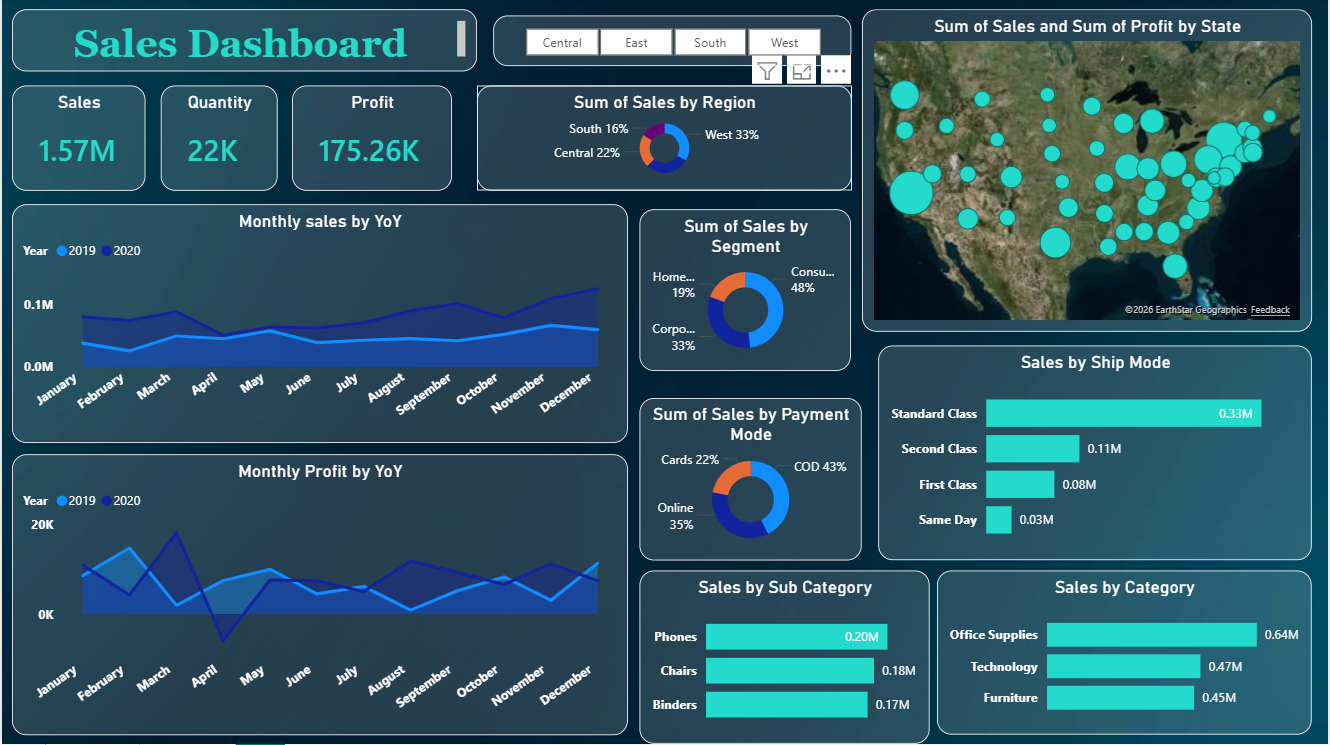

What the dashboard file says about the page in this screenshot:
{"tool":"powerbi","page":{"name":"Page 1","canvas":[1280,720],"ordinal":0},"visuals":[{"type":"clusteredBarChart","title":"Sales by Category","fields":{"Category":["SuperStore_Sales_Dataset.Category"],"Y":["Sum(SuperStore_Sales_Dataset.Sales)"]},"box":[902.9,552.9,361.4,158.6],"z":0},{"type":"clusteredBarChart","title":"Sales by Sub  Category","fields":{"Category":["SuperStore_Sales_Dataset.Sub-Category"],"Y":["Sum(SuperStore_Sales_Dataset.Sales)"]},"box":[615.7,552.9,280,167.1],"z":1000},{"type":"clusteredBarChart","title":"Sales by Ship Mode","fields":{"Category":["SuperStore_Sales_Dataset.Ship Mode"],"Y":["Sum(SuperStore_Sales_Dataset.Sales)"]},"box":[845.7,335.7,418.6,207.1],"z":2000},{"type":"areaChart","title":"Monthly sales by YoY","fields":{"Y":["Sum(SuperStore_Sales_Dataset.Sales)"],"Category":["SuperStore_Sales_Dataset.Order Date.Variation.Date Hierarchy.Month","SuperStore_Sales_Dataset.Order Date.Variation.Date Hierarchy.Day"],"Series":["SuperStore_Sales_Dataset.Order Date.Variation.Date Hierarchy.Year"]},"box":[9.6,199,594.2,230.5],"z":3000},{"type":"areaChart","title":"Monthly Profit by YoY","fields":{"Category":["SuperStore_Sales_Dataset.Order Date.Variation.Date Hierarchy.Month","SuperStore_Sales_Dataset.Order Date.Variation.Date Hierarchy.Day"],"Series":["SuperStore_Sales_Dataset.Order Date.Variation.Date Hierarchy.Year"],"Y":["Sum(SuperStore_Sales_Dataset.Profit)"]},"box":[10,440,594.3,271.4],"z":4000},{"type":"azureMap","fields":{"Category":["SuperStore_Sales_Dataset.State"],"Size":["Sum(SuperStore_Sales_Dataset.Sales)"]},"box":[830,11.4,434.3,311.4],"z":5000},{"type":"donutChart","fields":{"Category":["SuperStore_Sales_Dataset.Segment"],"Y":["Sum(SuperStore_Sales_Dataset.Sales)"]},"box":[615.7,204.3,204.3,155.7],"z":6000},{"type":"donutChart","fields":{"Y":["Sum(SuperStore_Sales_Dataset.Sales)"],"Category":["SuperStore_Sales_Dataset.Region"]},"box":[458.6,84.3,361.4,101.4],"z":7000},{"type":"donutChart","fields":{"Y":["Sum(SuperStore_Sales_Dataset.Sales)"],"Category":["SuperStore_Sales_Dataset.Payment Mode"]},"box":[615.7,385.7,214.3,157.1],"z":8000},{"type":"slicer","fields":{"Values":["SuperStore_Sales_Dataset.Region"]},"box":[474.3,17.1,345.7,48.6],"z":9000},{"type":"textbox","box":[10,11.4,448.6,60],"z":10000},{"type":"cardVisual","title":"Sales","fields":{"Data":["Sum(SuperStore_Sales_Dataset.Sales)"]},"box":[10,84.3,128.6,101.4],"z":11000},{"type":"cardVisual","title":"Quantity","fields":{"Data":["Sum(SuperStore_Sales_Dataset.Quantity)"]},"box":[152.9,84.3,112.9,101.4],"z":12000},{"type":"cardVisual","title":"Profit","fields":{"Data":["Sum(SuperStore_Sales_Dataset.Profit)"]},"box":[280,84.3,154.3,101.4],"z":13000}]}

Visuals, with their boxes in screenshot pixels (x1, y1, x2, y2), scaled from the page's 1280x720 canvas onto the 1330x745 screenshot:
"Sales by Category" clusteredBarChart: bbox=[938, 572, 1314, 736]
"Sales by Sub  Category" clusteredBarChart: bbox=[640, 572, 931, 744]
"Sales by Ship Mode" clusteredBarChart: bbox=[879, 347, 1314, 562]
"Monthly sales by YoY" areaChart: bbox=[10, 206, 627, 444]
"Monthly Profit by YoY" areaChart: bbox=[10, 455, 628, 736]
azureMap - SuperStore_Sales_Dataset.State x Sum(SuperStore_Sales_Dataset.Sales): bbox=[862, 12, 1314, 334]
donutChart - SuperStore_Sales_Dataset.Segment x Sum(SuperStore_Sales_Dataset.Sales): bbox=[640, 211, 852, 373]
donutChart - Sum(SuperStore_Sales_Dataset.Sales) x SuperStore_Sales_Dataset.Region: bbox=[477, 87, 852, 192]
donutChart - Sum(SuperStore_Sales_Dataset.Sales) x SuperStore_Sales_Dataset.Payment Mode: bbox=[640, 399, 862, 562]
slicer - SuperStore_Sales_Dataset.Region: bbox=[493, 18, 852, 68]
textbox: bbox=[10, 12, 477, 74]
"Sales" cardVisual: bbox=[10, 87, 144, 192]
"Quantity" cardVisual: bbox=[159, 87, 276, 192]
"Profit" cardVisual: bbox=[291, 87, 451, 192]
